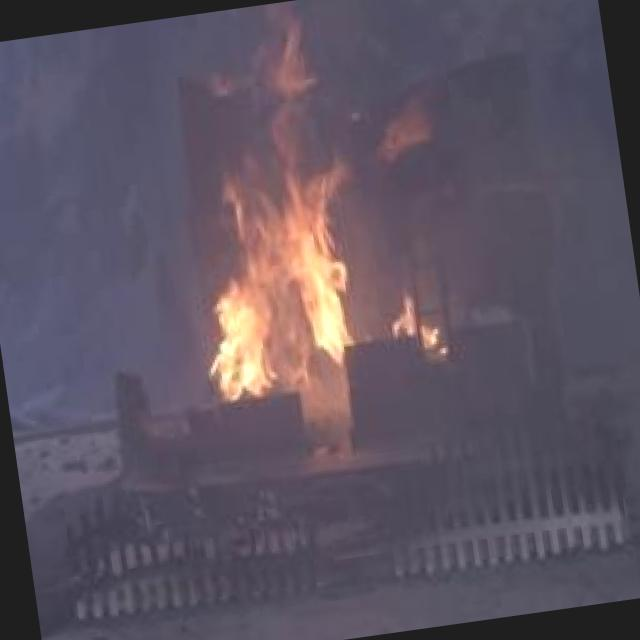fire: (154, 128, 428, 417)
